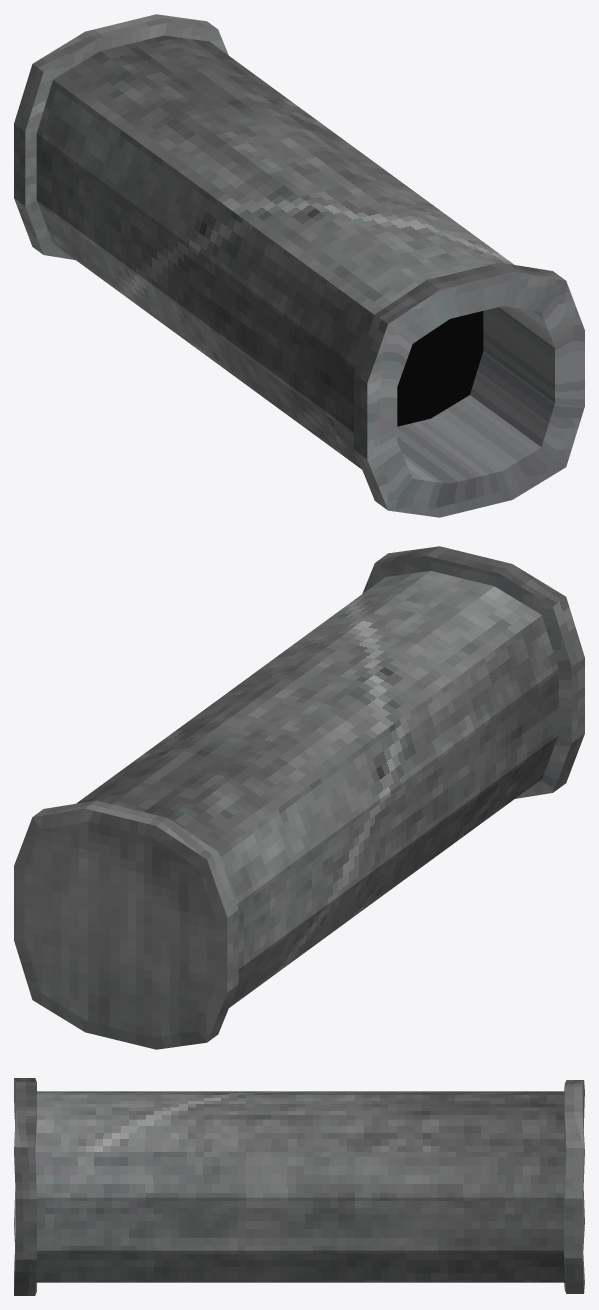
Rendered from PipeBig.glb.
3 renders of one model, top to bottom at view 1: azimuth 30°, elevation 25°; view 2: azimuth 150°, elevation 25°; view 3: azimuth 270°, elevation 25°, orthographic. The views are drawn at different scales.
Visible parts, largest first — view 1: Cube.010; view 2: Cube.010; view 3: Cube.010.
Boxes of the visible parts, left/top/right/bottom form: Cube.010: left=14, top=14, right=584, bottom=517; Cube.010: left=14, top=546, right=584, bottom=1049; Cube.010: left=14, top=1078, right=584, bottom=1295.
Size of the model in its own units: 1.02 by 1.02 by 2.9.
1 material, 1 textured.
